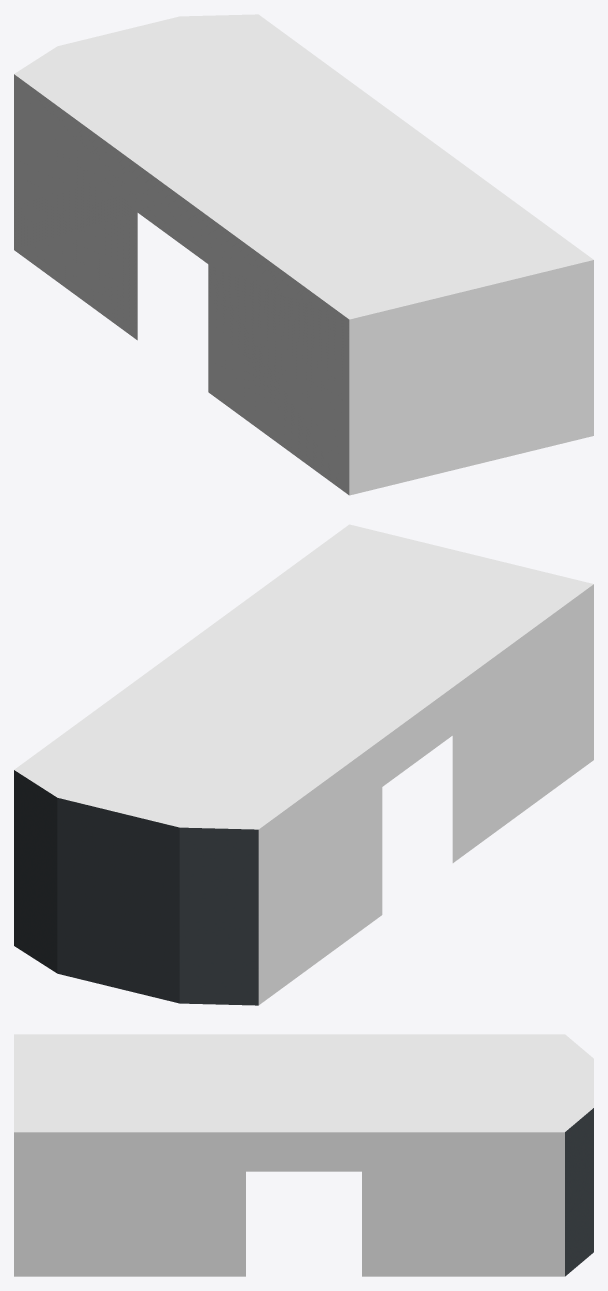
The model's file is Lift_03_Walls_Level_03 2.fbx.
3 views of the same model, one above another, from view 1: azimuth 30°, elevation 25°; view 2: azimuth 150°, elevation 25°; view 3: azimuth 270°, elevation 25° (orthographic). The views are drawn at different scales.
Parts seen in each view (by area): view 1: Lift_03_Walls_Level_03; view 2: Lift_03_Walls_Level_03; view 3: Lift_03_Walls_Level_03.
Part boxes in pixels (x1,y1,x2,y2): Lift_03_Walls_Level_03: (14,14,593,495); Lift_03_Walls_Level_03: (14,524,593,1005); Lift_03_Walls_Level_03: (14,1034,593,1276).
Bounding box in the file's own units: 1600 × 1100 × 4000.
